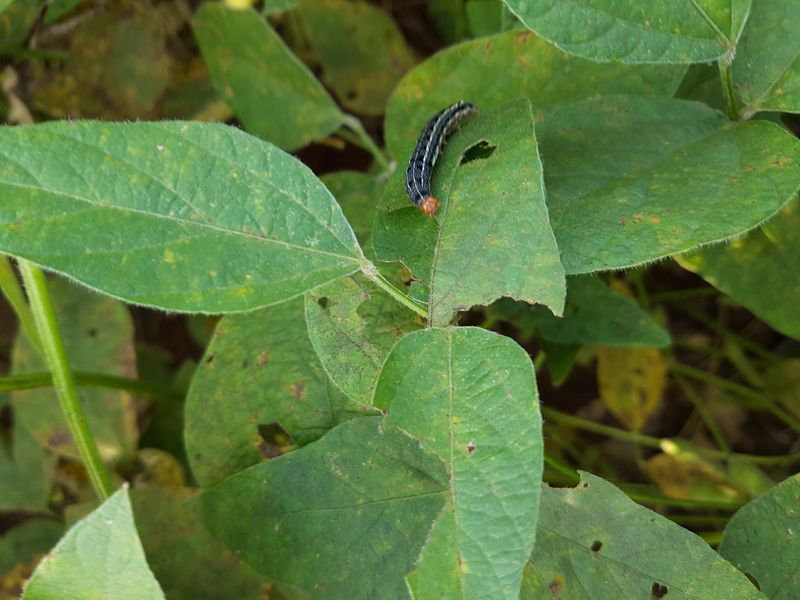Spodoptera_albula: (378, 88, 508, 229)
